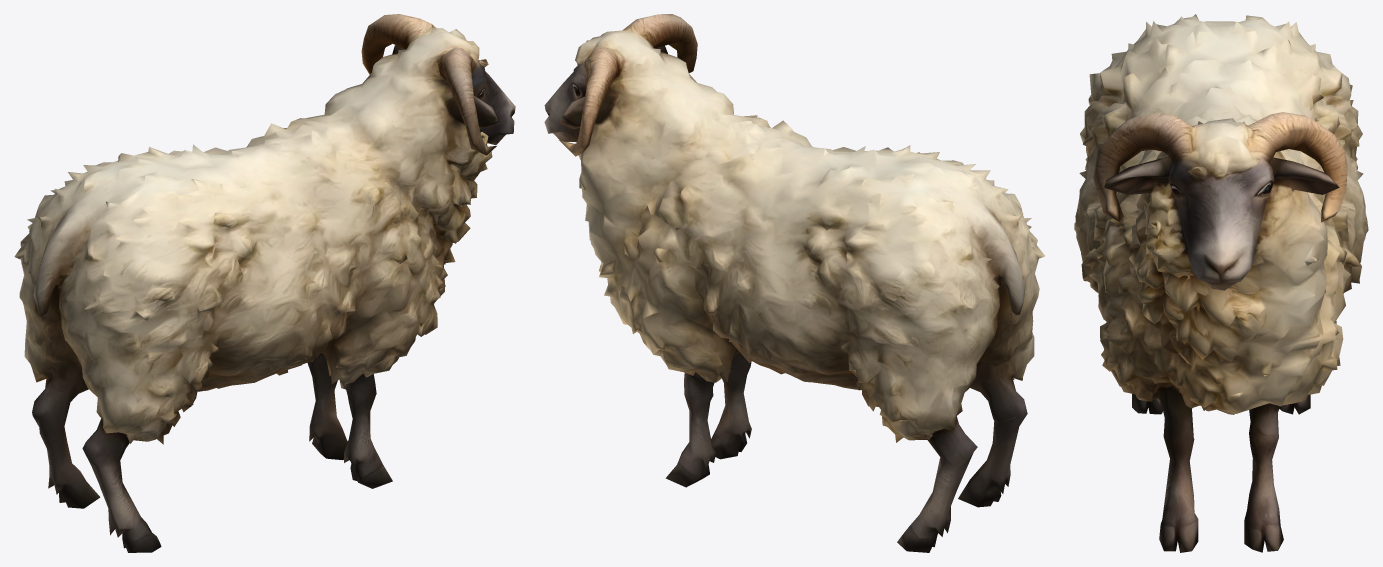
Rendered from sheep.glb.
3 renders of one model, left to right at view 1: azimuth 30°, elevation 25°; view 2: azimuth 150°, elevation 25°; view 3: azimuth 270°, elevation 25°, orthographic. The views are drawn at different scales.
Visible parts, largest first — view 1: tripo_node_f5c7676a-250c-495e-ad8f-32e4e9dd73b8; view 2: tripo_node_f5c7676a-250c-495e-ad8f-32e4e9dd73b8; view 3: tripo_node_f5c7676a-250c-495e-ad8f-32e4e9dd73b8.
Part boxes in pixels (x1=…): tripo_node_f5c7676a-250c-495e-ad8f-32e4e9dd73b8: x1=14, y1=14, x2=515, y2=552; tripo_node_f5c7676a-250c-495e-ad8f-32e4e9dd73b8: x1=544, y1=14, x2=1044, y2=552; tripo_node_f5c7676a-250c-495e-ad8f-32e4e9dd73b8: x1=1074, y1=14, x2=1368, y2=552.
Size of the model in its own units: 1 by 0.8281 by 0.466.
1 material, 1 textured.
